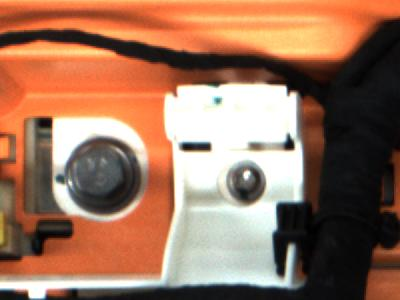nut_b: (55, 133, 146, 214)
